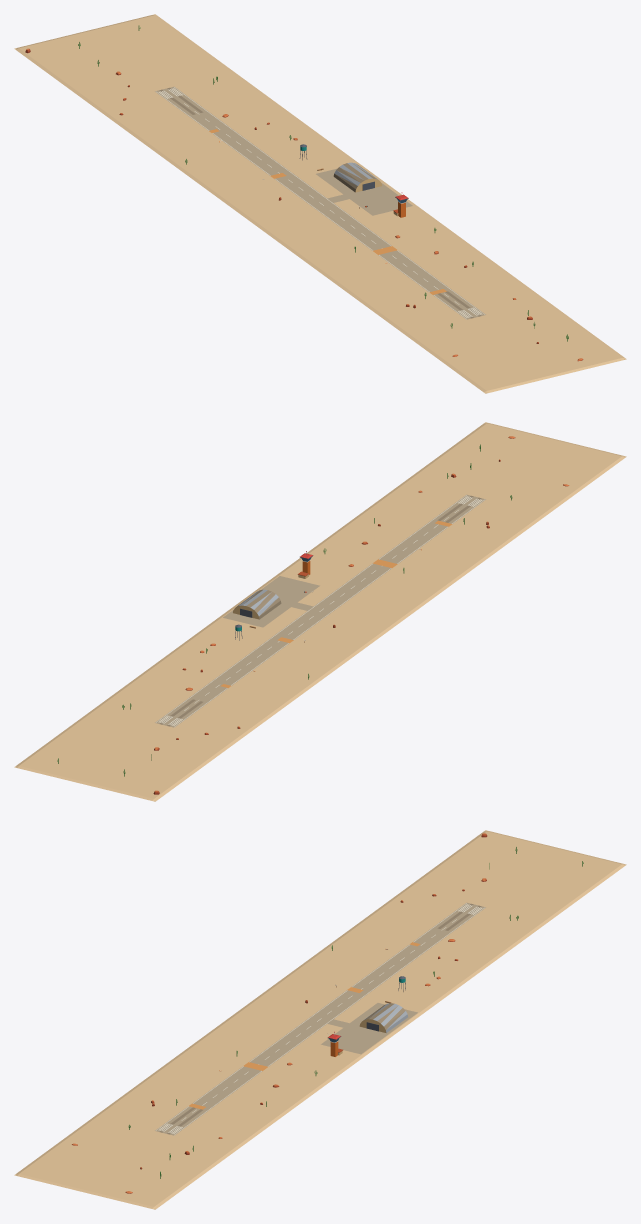
The model's file is AeropuertoDesierto.fbx.
3 renders of one model, top to bottom at view 1: azimuth 30°, elevation 25°; view 2: azimuth 150°, elevation 25°; view 3: azimuth 330°, elevation 25°, orthographic.
Parts seen in each view (by area): view 1: AeropuertoDesierto; view 2: AeropuertoDesierto; view 3: AeropuertoDesierto.
Part boxes in pixels (x1=…): AeropuertoDesierto: x1=14, y1=14, x2=626, y2=393; AeropuertoDesierto: x1=14, y1=422, x2=626, y2=801; AeropuertoDesierto: x1=14, y1=830, x2=626, y2=1209.
Size of the model in its own units: 314 by 52.5 by 1814.
Materials: 1 (1 with a texture image).
